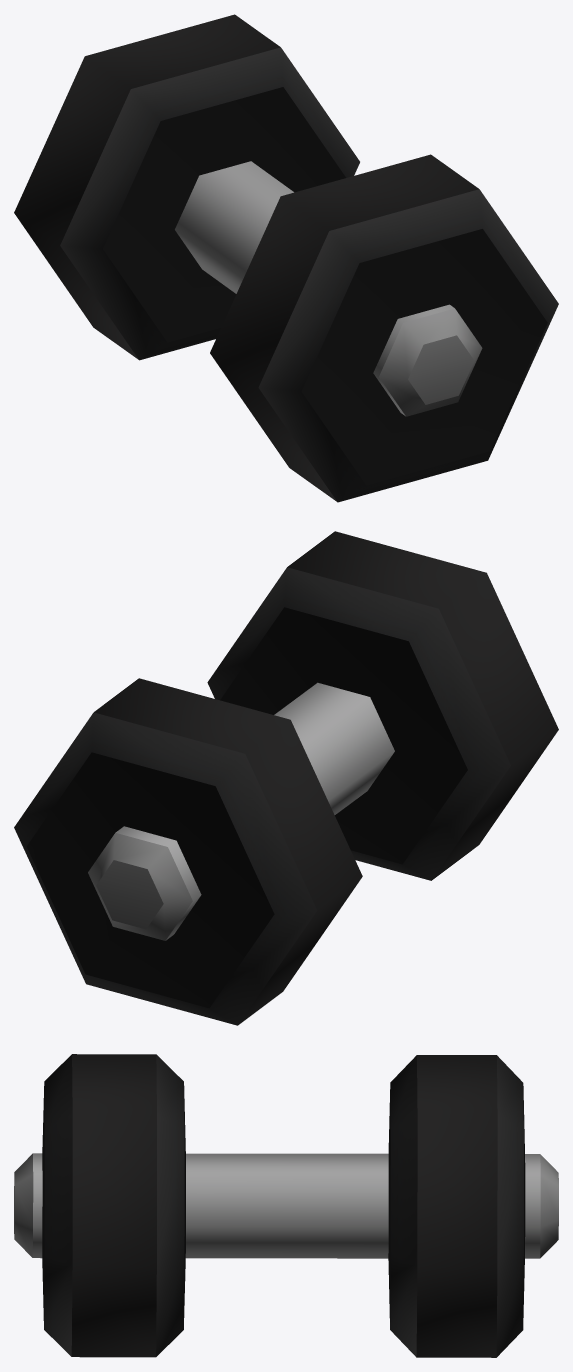
File: Dumbell.fbx
3 views of the same model, one above another, from view 1: azimuth 30°, elevation 25°; view 2: azimuth 150°, elevation 25°; view 3: azimuth 270°, elevation 25° (orthographic). The views are drawn at different scales.
Visible parts, largest first — view 1: Dumbbell; view 2: Dumbbell; view 3: Dumbbell.
Boxes of the visible parts, x1,y1,x2,y2 form: Dumbbell: [14, 14, 558, 502]; Dumbbell: [14, 531, 558, 1025]; Dumbbell: [14, 1054, 558, 1357].
Bounding box in the file's own units: 0.279 × 0.2459 × 0.4952.
